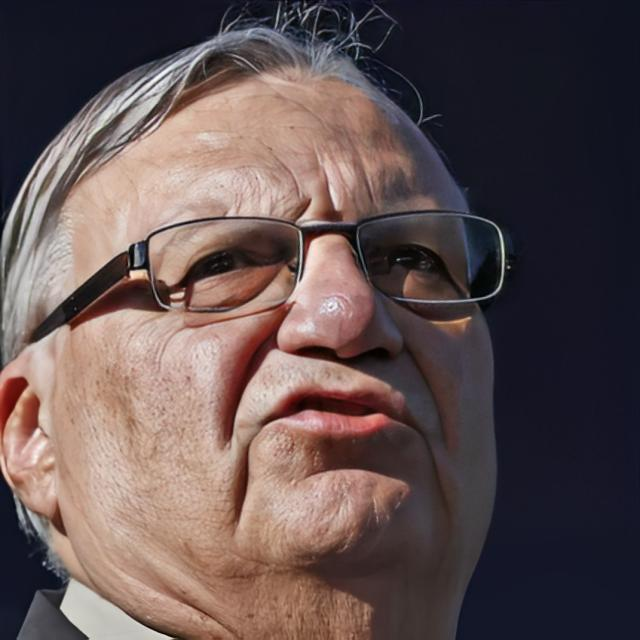anger: (117, 72, 506, 573)
